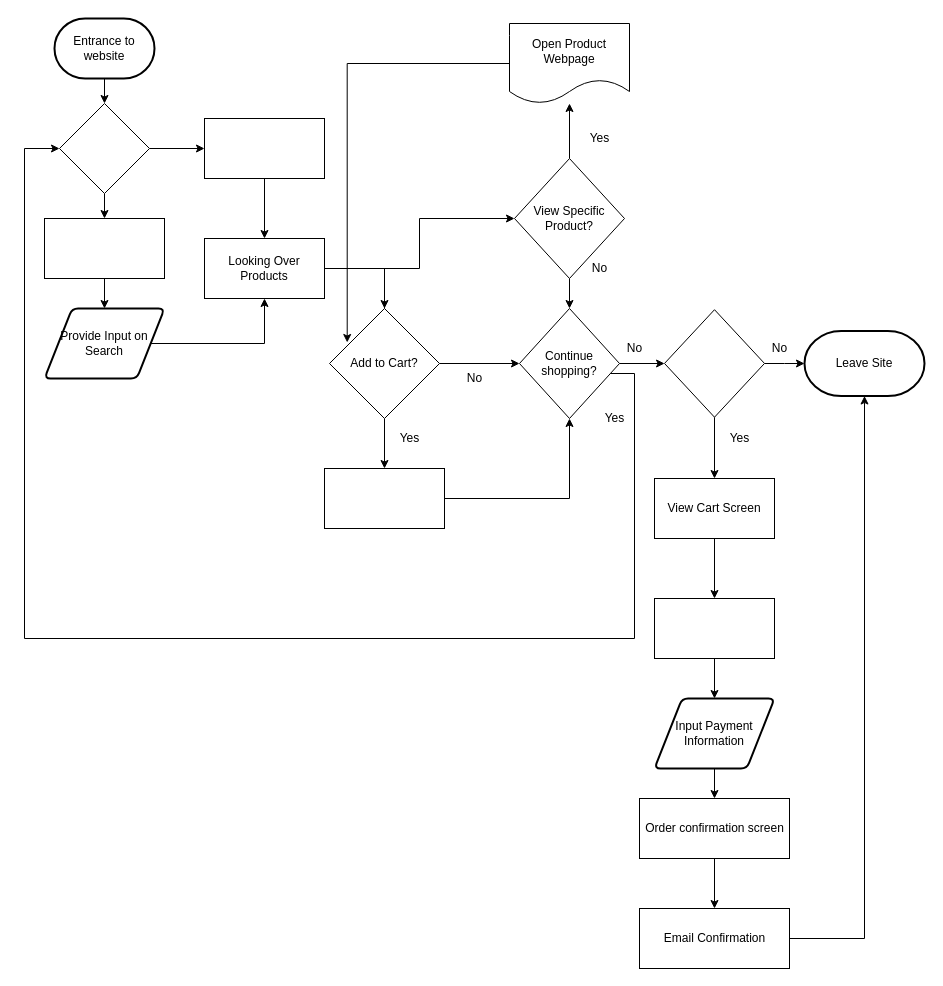
Image size: 943x986. Some labels were removed from this diagram. The shapes that lost their labels are listed below. From the top down, each one's centre as x and y in pixels, then its label:
the point at 104,148: Home Page
the point at 264,148: Explore Products
the point at 104,248: Search For Product
the point at 714,363: Checkout?
the point at 384,498: Cart Confirmation
the point at 714,628: View Payment Screen
